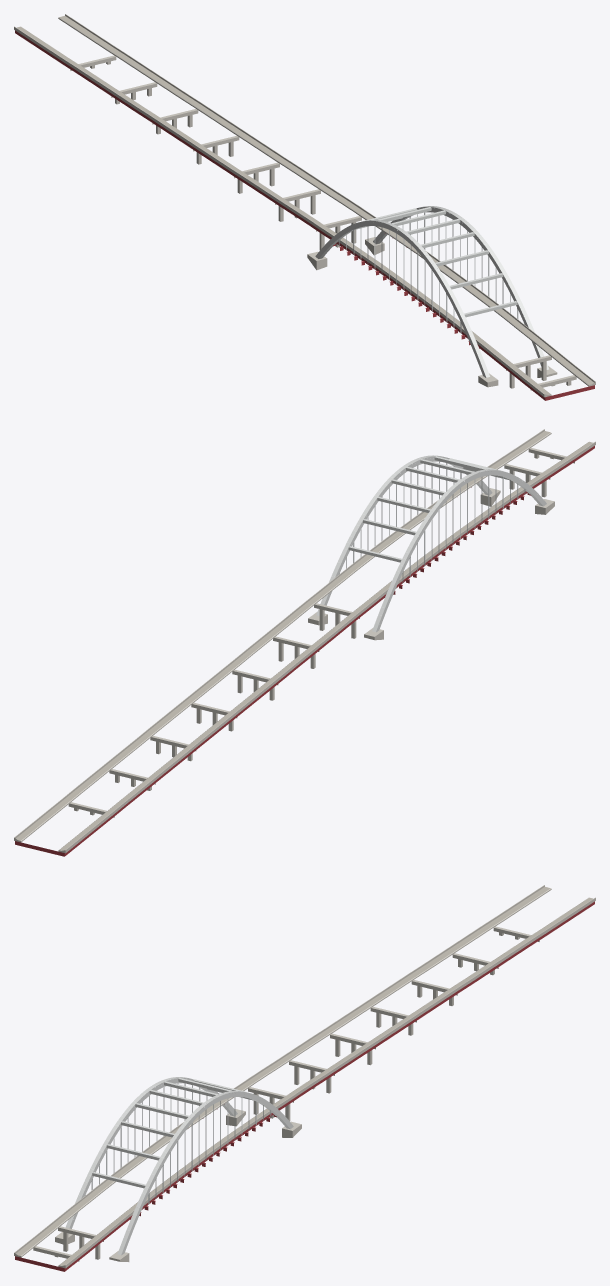
The model's file is nash-gateway-bridge.detail.glb.
3 renders of one model, top to bottom at view 1: azimuth 30°, elevation 25°; view 2: azimuth 150°, elevation 25°; view 3: azimuth 330°, elevation 25°, orthographic.
Visible parts, largest first — view 1: Gateway Bridge; view 2: Gateway Bridge; view 3: Gateway Bridge.
Boxes of the visible parts, x1,y1,x2,y2 form: Gateway Bridge: (14, 14, 595, 400); Gateway Bridge: (14, 429, 595, 856); Gateway Bridge: (14, 885, 595, 1271).
Size of the model in its own units: 38 by 53.17 by 518.
